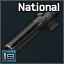M1A National Match 7.62x51 muzzle brake & compensator: (0, 0, 64, 64)
